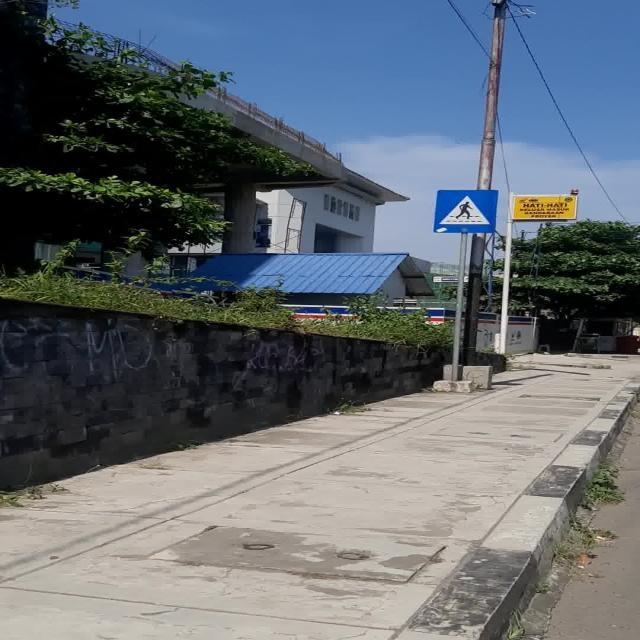Perintah Jalur Penyebrangan: (434, 189, 498, 233)
